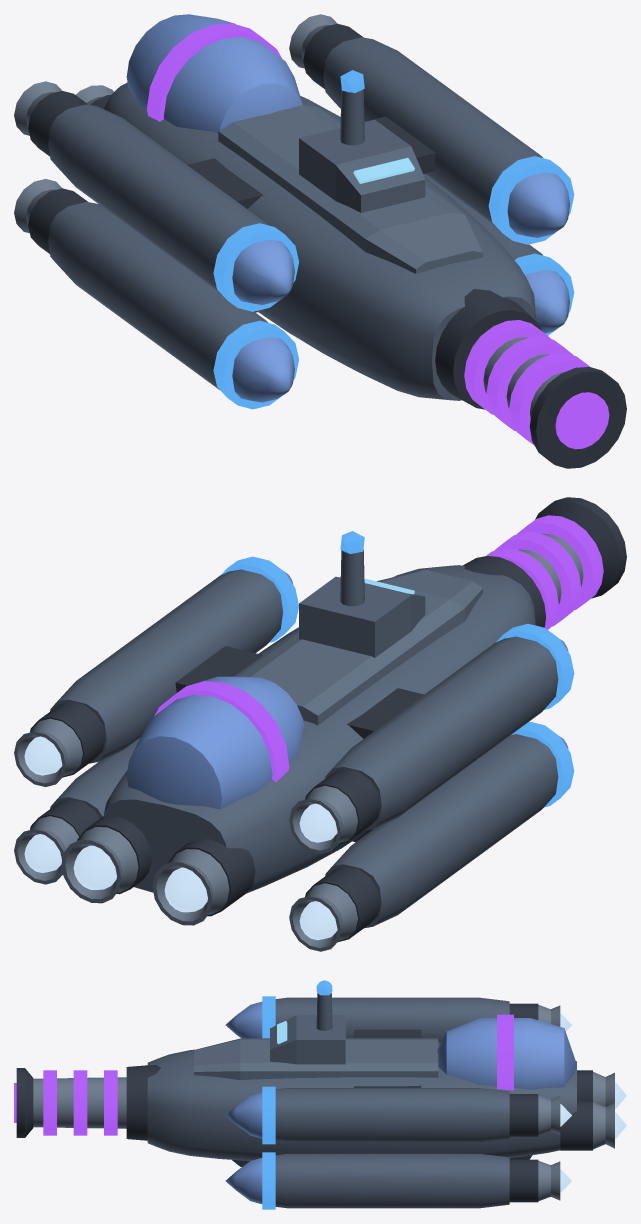
Rendered from plasma_frigate.glb.
The picture shows the model from 3 angles, top to bottom: view 1: azimuth 30°, elevation 25°; view 2: azimuth 150°, elevation 25°; view 3: azimuth 270°, elevation 25°; orthographic projection. The views are drawn at different scales.
Parts seen in each view (by area): view 1: plasma_frigate; view 2: plasma_frigate; view 3: plasma_frigate.
Part boxes in pixels (x1,y1,x2,y2): plasma_frigate: (14,14,626,468); plasma_frigate: (14,497,626,951); plasma_frigate: (14,980,626,1209).
Bounding box in the file's own units: 3.24 × 2.41 × 7.28.
